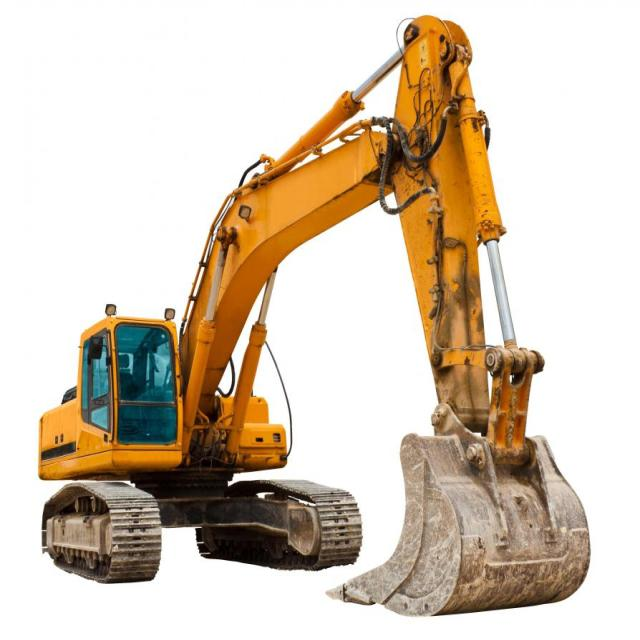excavator: (37, 12, 590, 617)
